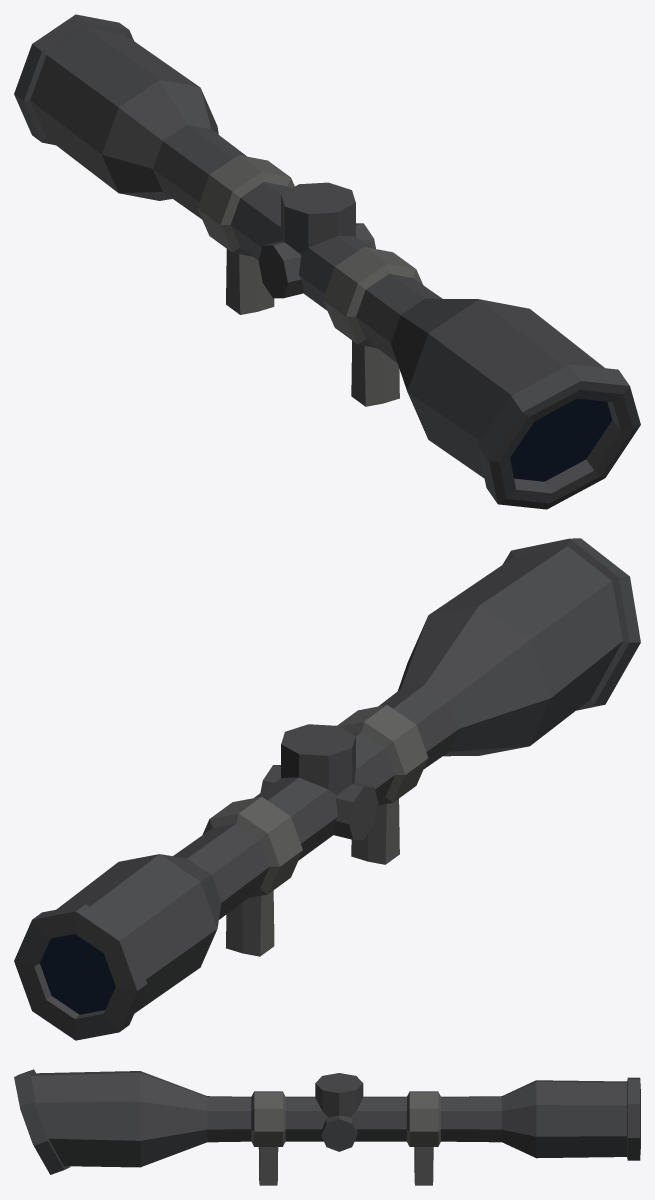
The model's file is scope_tactical.glb.
3 renders of one model, top to bottom at view 1: azimuth 30°, elevation 25°; view 2: azimuth 150°, elevation 25°; view 3: azimuth 270°, elevation 25°, orthographic. The views are drawn at different scales.
Parts seen in each view (by area): view 1: scope_tactical; view 2: scope_tactical; view 3: scope_tactical.
Part boxes in pixels (box(x1,y1,x2,y2)): scope_tactical: box(14, 14, 640, 509); scope_tactical: box(14, 538, 640, 1040); scope_tactical: box(14, 1069, 640, 1185).
Bounding box in the file's own units: 0.3606 × 0.3982 × 2.08.
